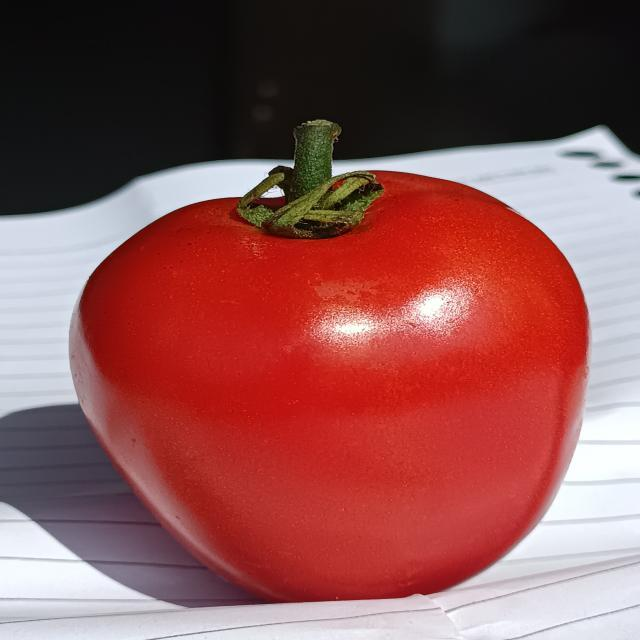Masak: (63, 136, 587, 608)
